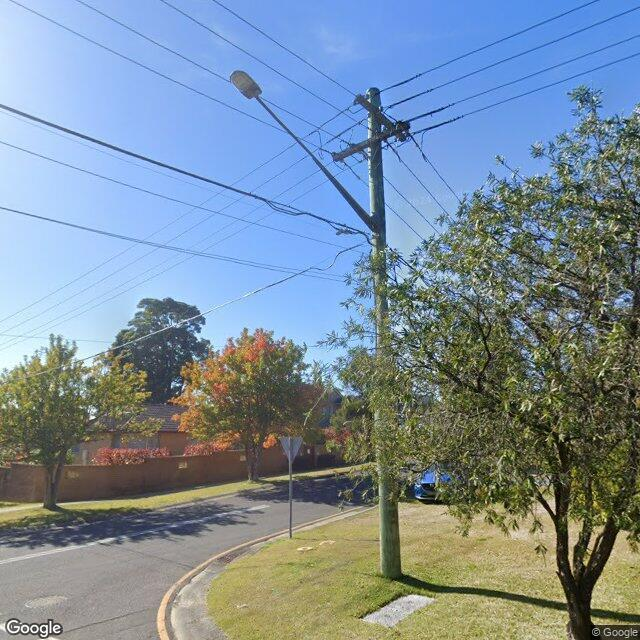crossarm: (331, 119, 412, 163), (355, 94, 409, 141)
steel-pole: (289, 436, 292, 540)
streetlight: (229, 70, 377, 231)
timber-pole: (365, 87, 401, 580)
